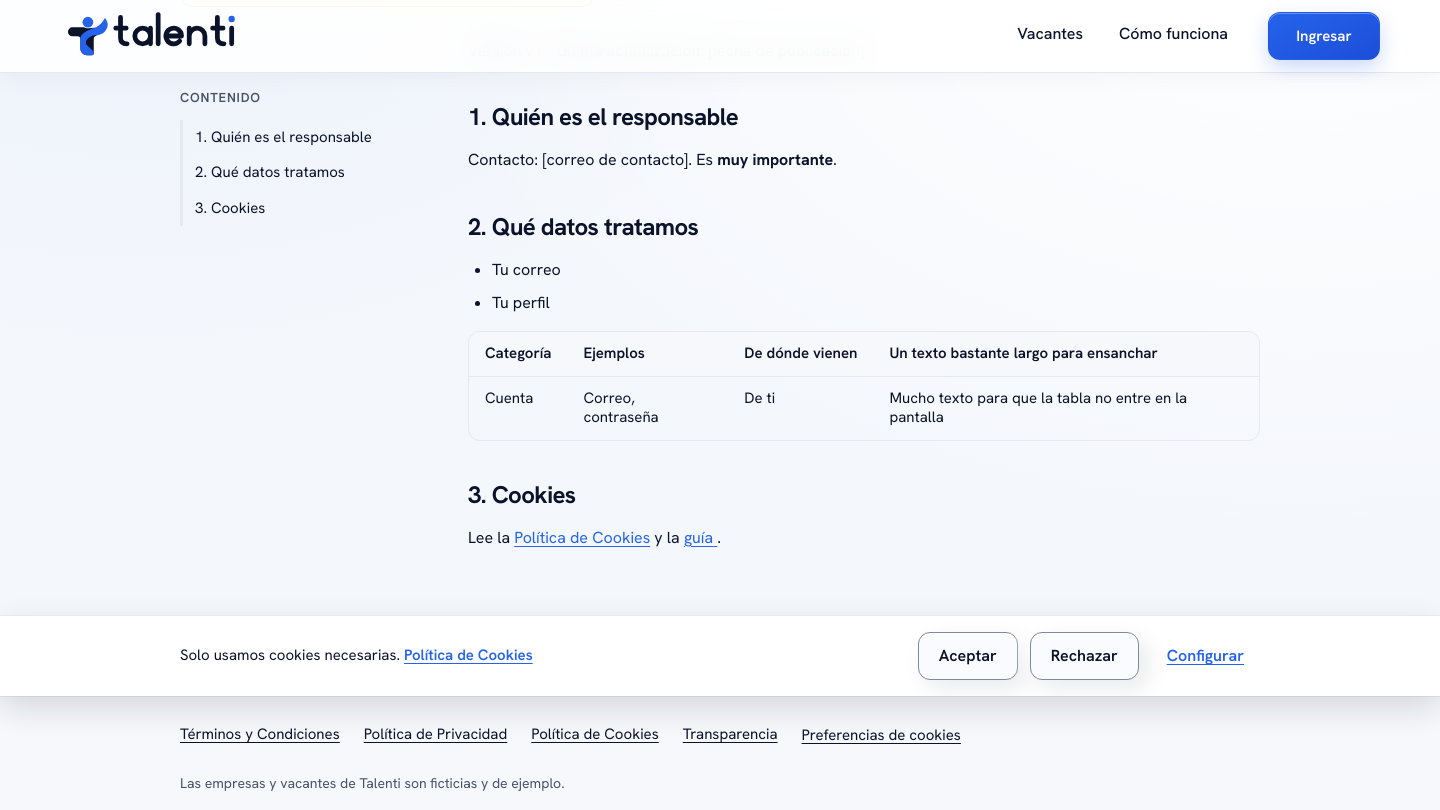
Test case: Legal pages /terminos, /privacidad, /cookies (002-01 to 002-07) › 002-03: opens an internal link of the body without reloading the page
(page scrolled)
Click the link "Política de Cookies" next to "Lee la" at (582, 537), box [514,527,650,548]
(page scrolled)
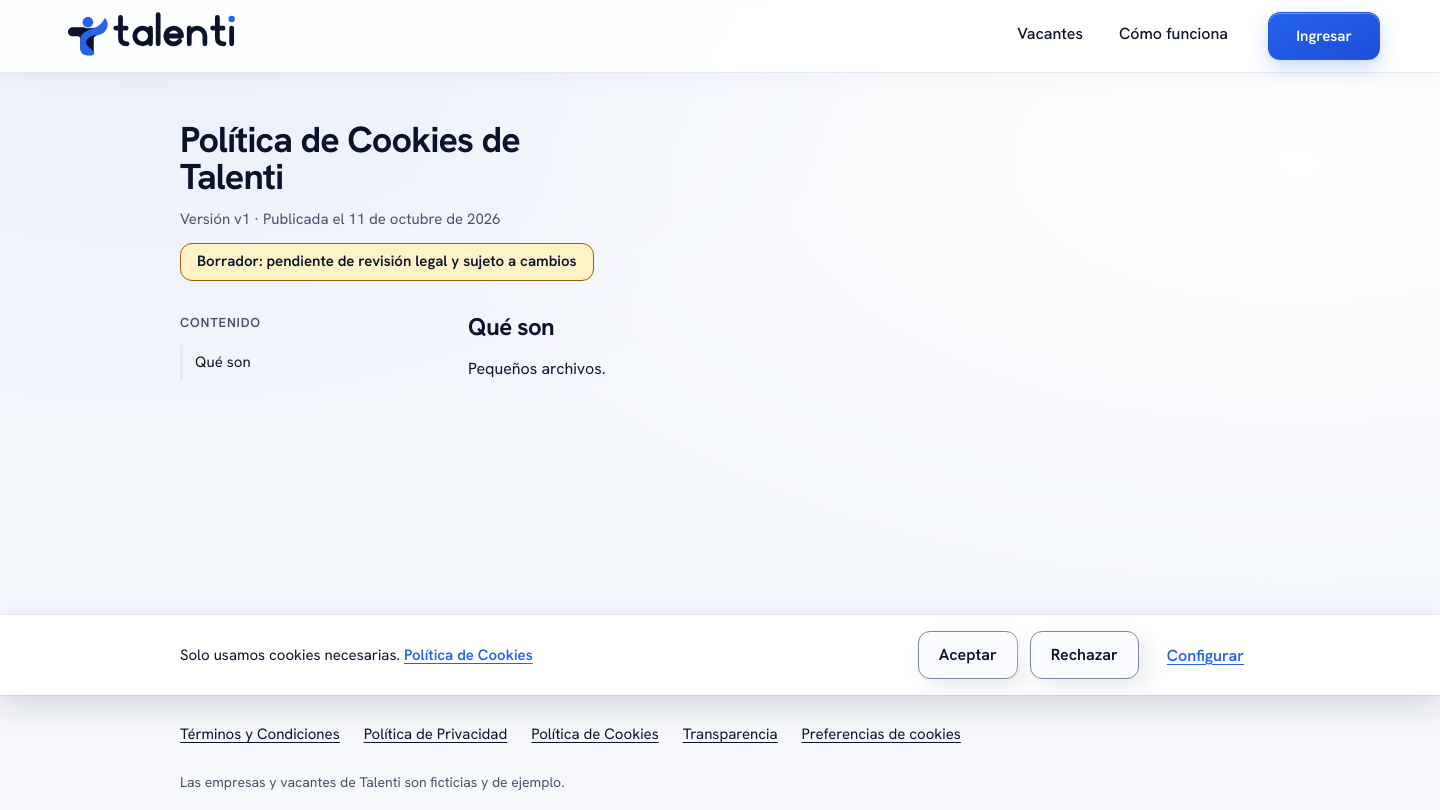
Check: the heading "Política de Cookies de Talenti" is shown, box [180,116,520,200]
